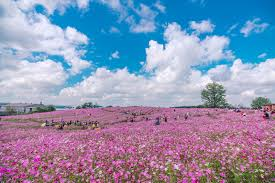flower: (2, 108, 275, 182)
sky: (2, 2, 273, 107)
tree: (198, 81, 235, 112), (249, 95, 274, 111)
